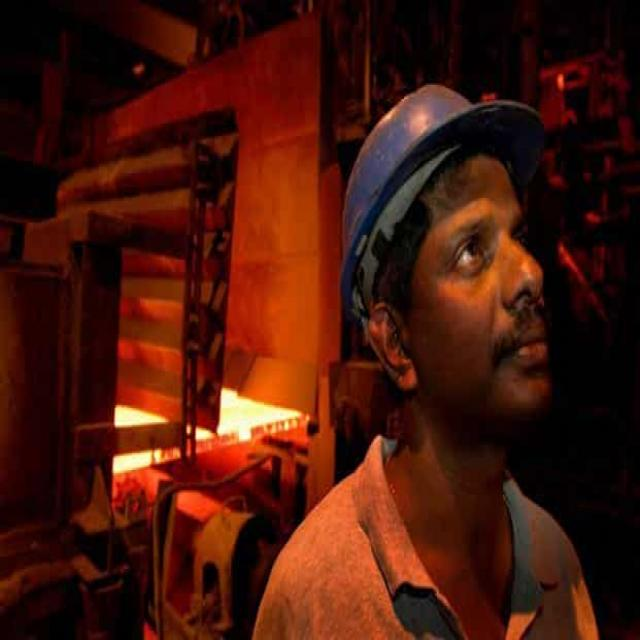Reflective-Jacket: (244, 426, 610, 638)
Safety-Helmet: (309, 68, 547, 320)
